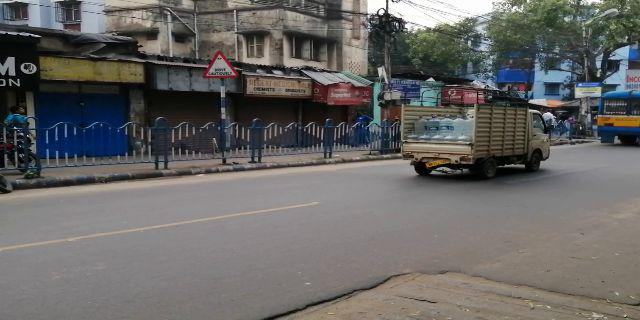Bus: (596, 90, 640, 149)
Minitruck: (398, 85, 554, 177)
